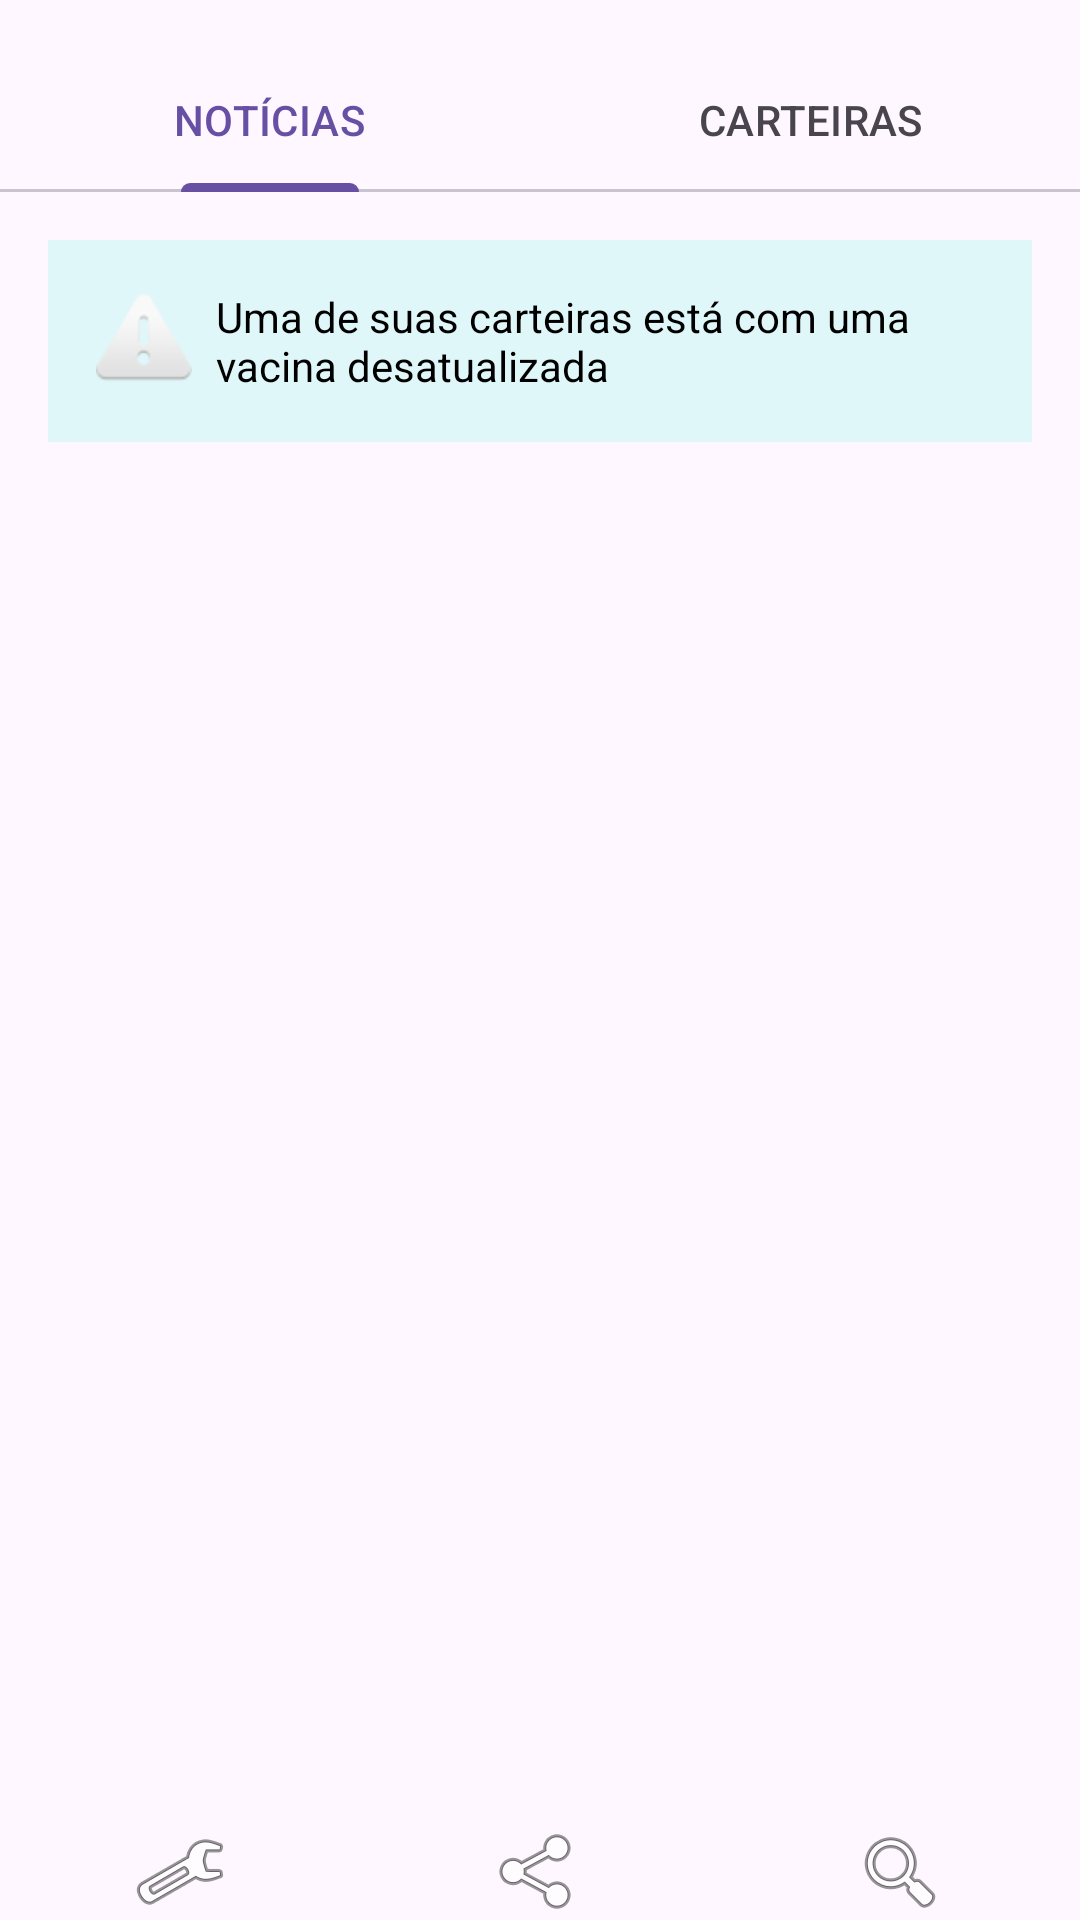

Named icons in this screenshot (1080px×1920px) and their centers, (x,y):
Compartilhar: (535,1871)
Configurações: (180,1872)
Pesquisar: (900,1872)
